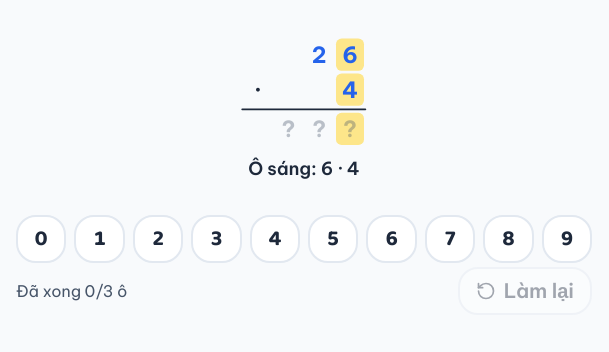
Scenario: column multiplication visuals › fills the product with the keys, rejects a wrong digit and closes
Expected: the text "Đã xong 0/3 ô" is shown, [16, 279, 127, 303]
Click the button named "Chữ số 9": coordinates (567, 239) [542, 215, 592, 263]
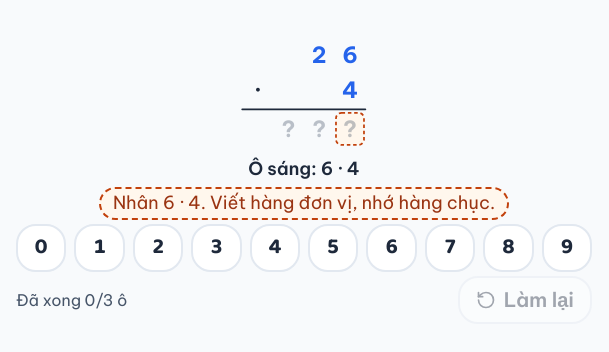
Expected: the text "Đã xong 0/3 ô" is shown, [16, 288, 127, 312]
Expected: the text "Nhân 6 · 4. Viết hàng đơn vị, nhớ hàng chục." is shown, [99, 187, 509, 220]
Click the button named "Chữ số 4": coordinates (275, 248) [250, 224, 300, 272]
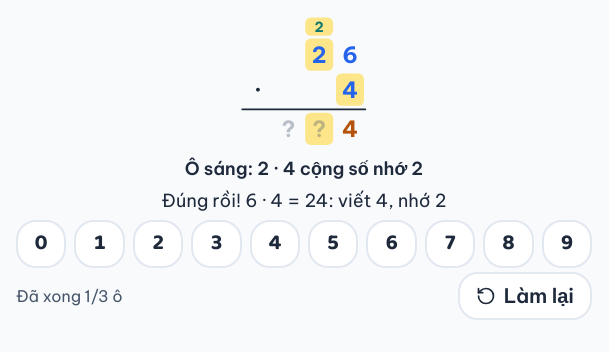
Click the button named "Chữ số 0": coordinates (41, 244) [16, 220, 66, 268]
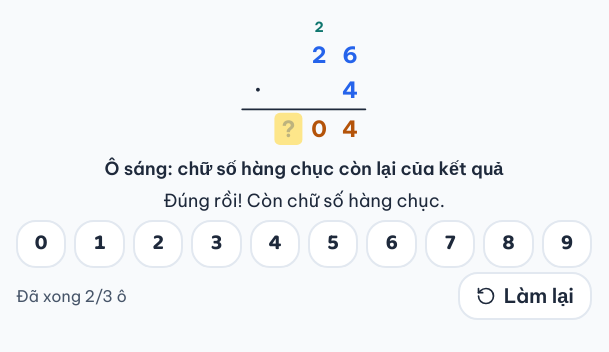
Click the button named "Chữ số 1": coordinates (100, 244) [74, 220, 125, 268]
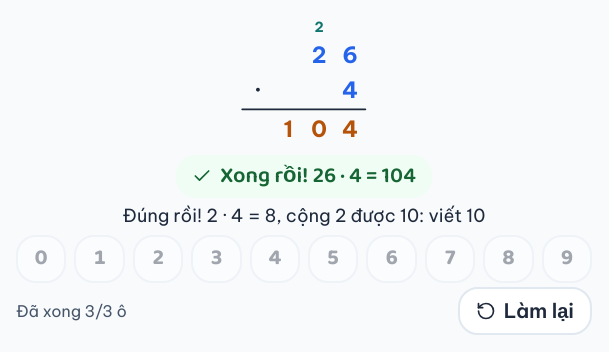
Expected: the text "Đã xong 3/3 ô" is shown, [16, 299, 127, 323]
Expected: the text "Xong rồi! 26 · 4 = 104" is shown, [176, 155, 432, 198]
Expected: the button named "Chữ số 1" is disabled, [74, 235, 125, 283]
Click the button "Làm lại": coordinates (525, 311) [458, 287, 592, 335]
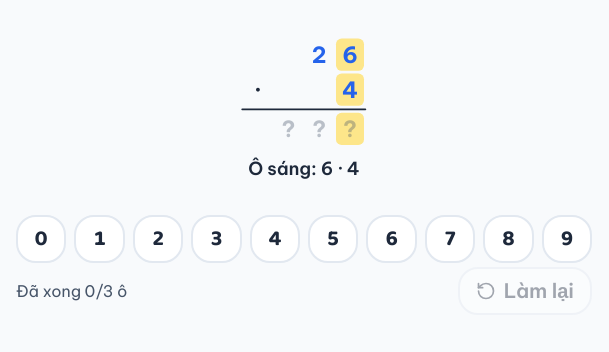
Expected: the text "Đã xong 0/3 ô" is shown, [16, 279, 127, 303]
